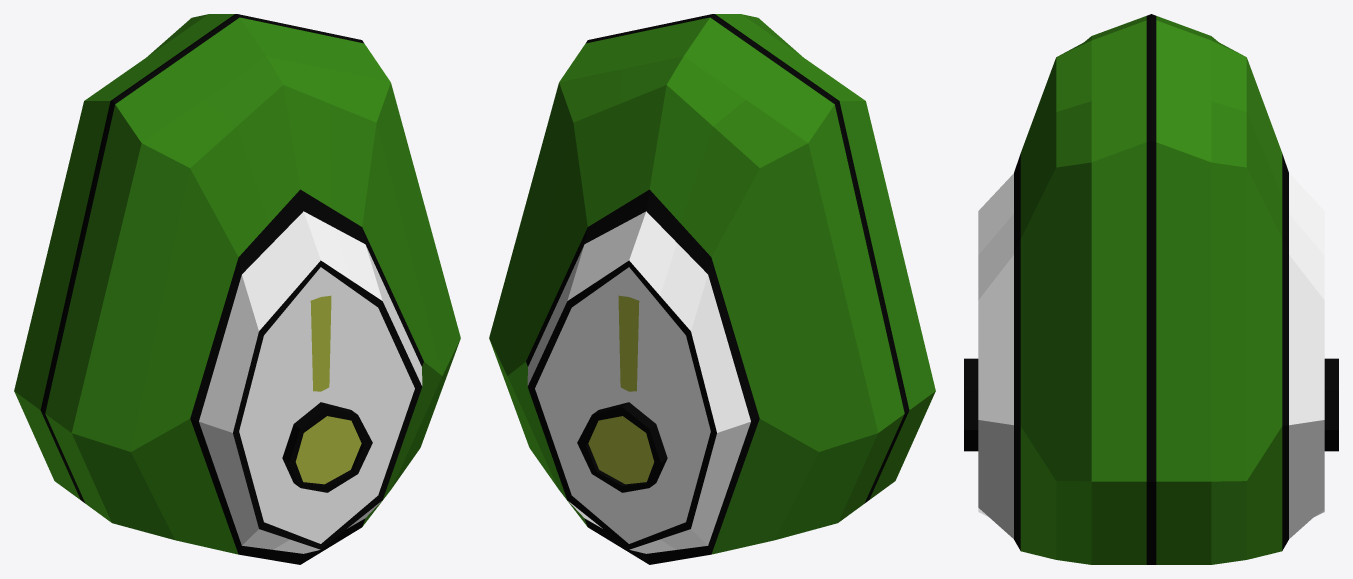
The model's file is bioGrenade.fbx.
3 views of the same model, side by side, from view 1: azimuth 30°, elevation 25°; view 2: azimuth 150°, elevation 25°; view 3: azimuth 270°, elevation 25° (orthographic). The views are drawn at different scales.
Visible parts, largest first — view 1: Cube; view 2: Cube; view 3: Cube.
Part boxes in pixels (<box>): Cube: <box>14,14,460,564</box>; Cube: <box>489,14,935,564</box>; Cube: <box>964,14,1338,564</box>.
Bounding box in the file's own units: 157 × 202 × 126.
